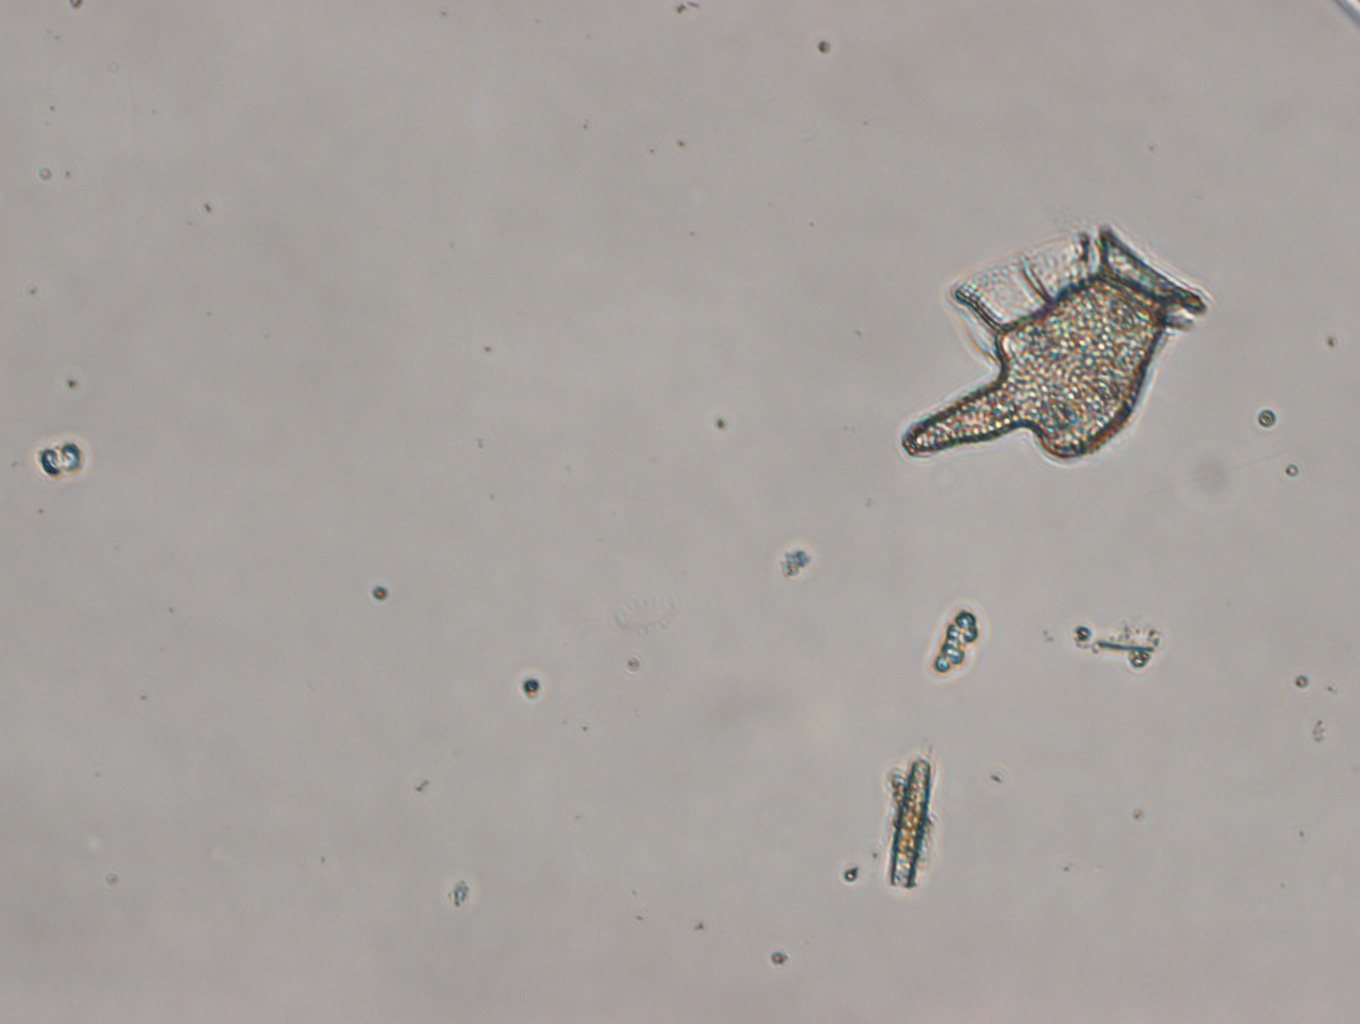dinophysis caudata: (901, 222, 1208, 466)
